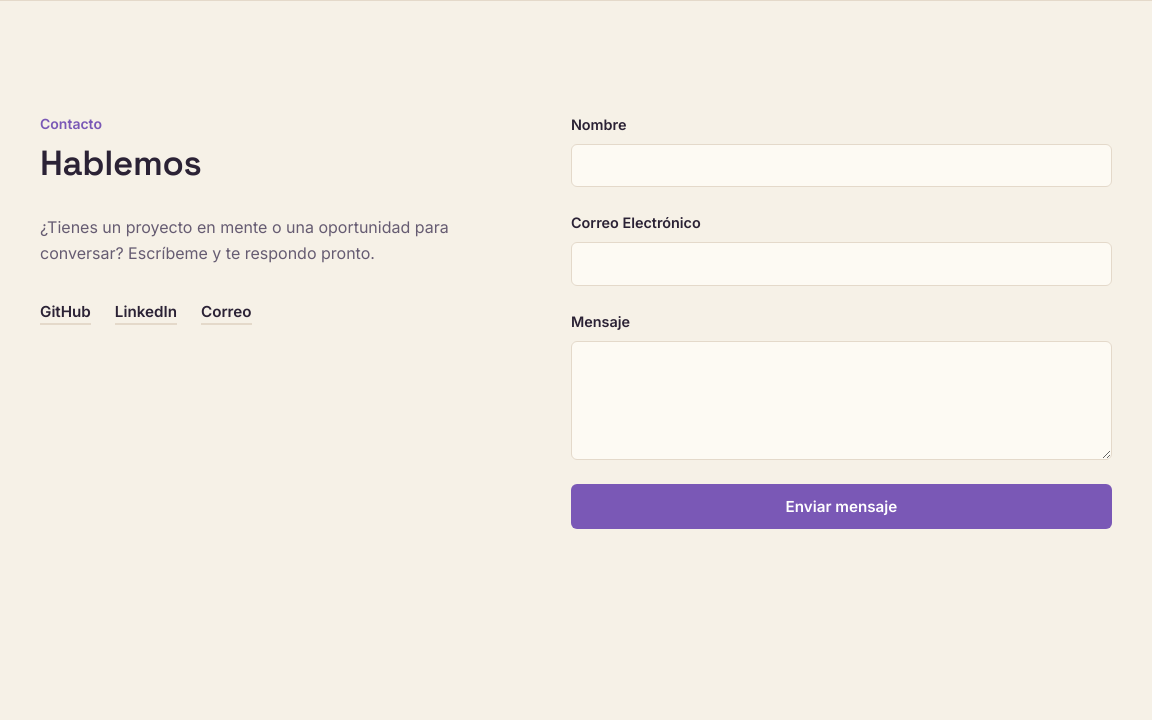
Test: Contact form › shows validation errors when submitted empty
Click the button "Enviar mensaje" at (841, 507), box left=571, top=484, right=1112, bottom=529
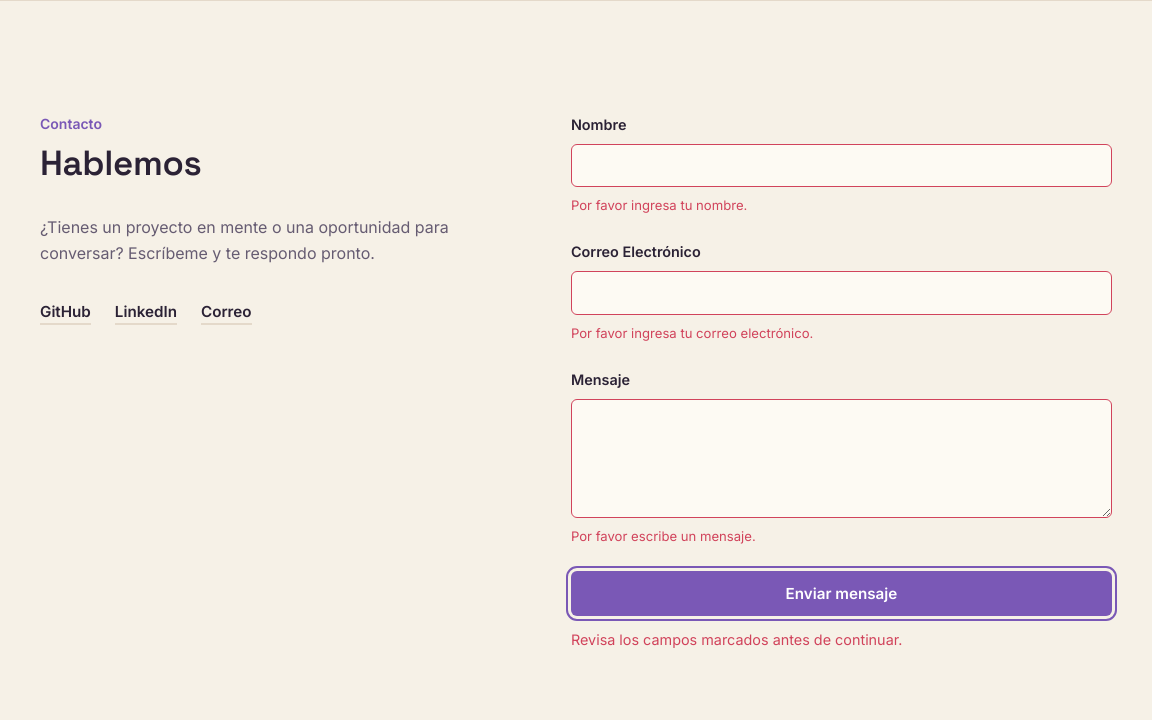
Expected: the text "Por favor ingresa tu nombre." is shown, left=571, top=197, right=747, bottom=213
Expected: the text "Por favor ingresa tu correo electrónico." is shown, left=571, top=325, right=813, bottom=341
Expected: the text "Por favor escribe un mensaje." is shown, left=571, top=528, right=756, bottom=544
